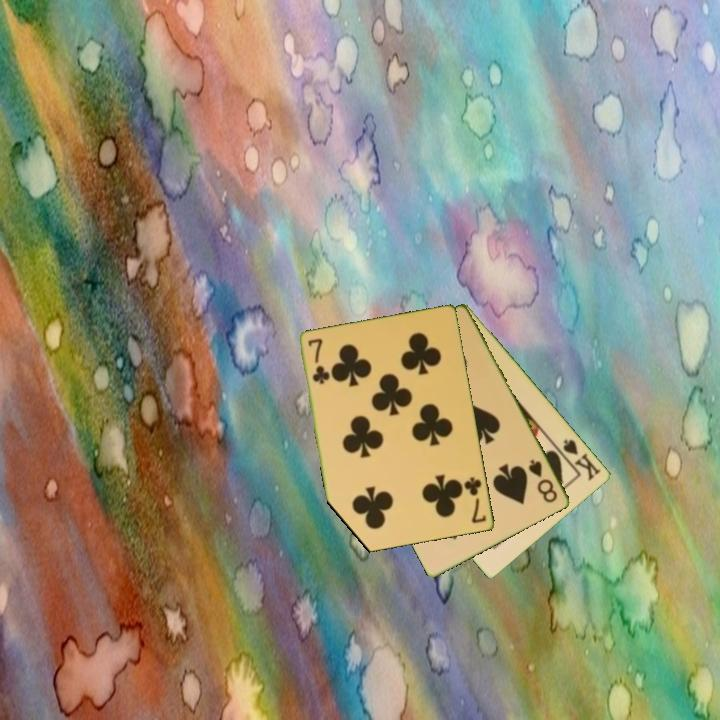7c: (461, 474, 489, 526), (305, 335, 331, 387)
8s: (525, 456, 561, 506)
Ks: (554, 436, 604, 484)
